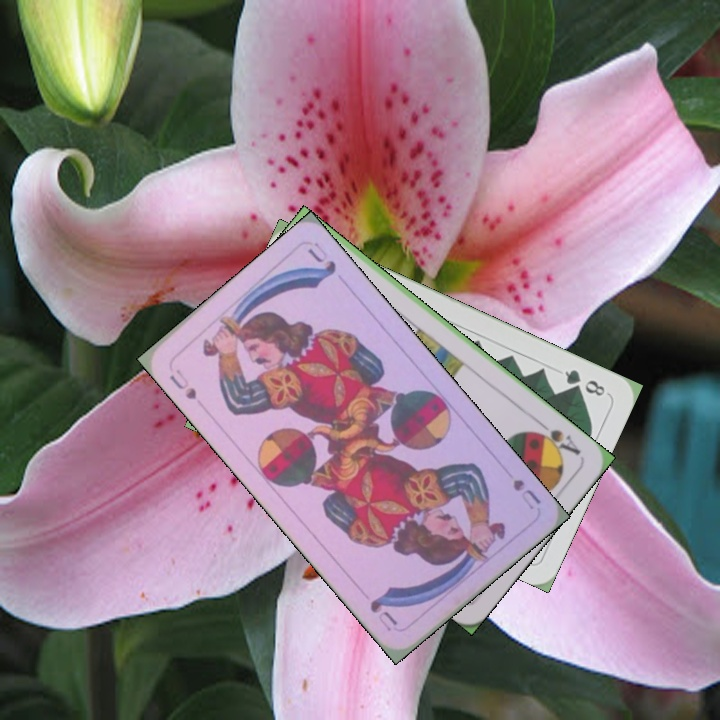G8: (560, 365, 611, 399)
SA: (528, 417, 583, 458)
SU: (508, 475, 544, 513), (165, 364, 200, 403)
